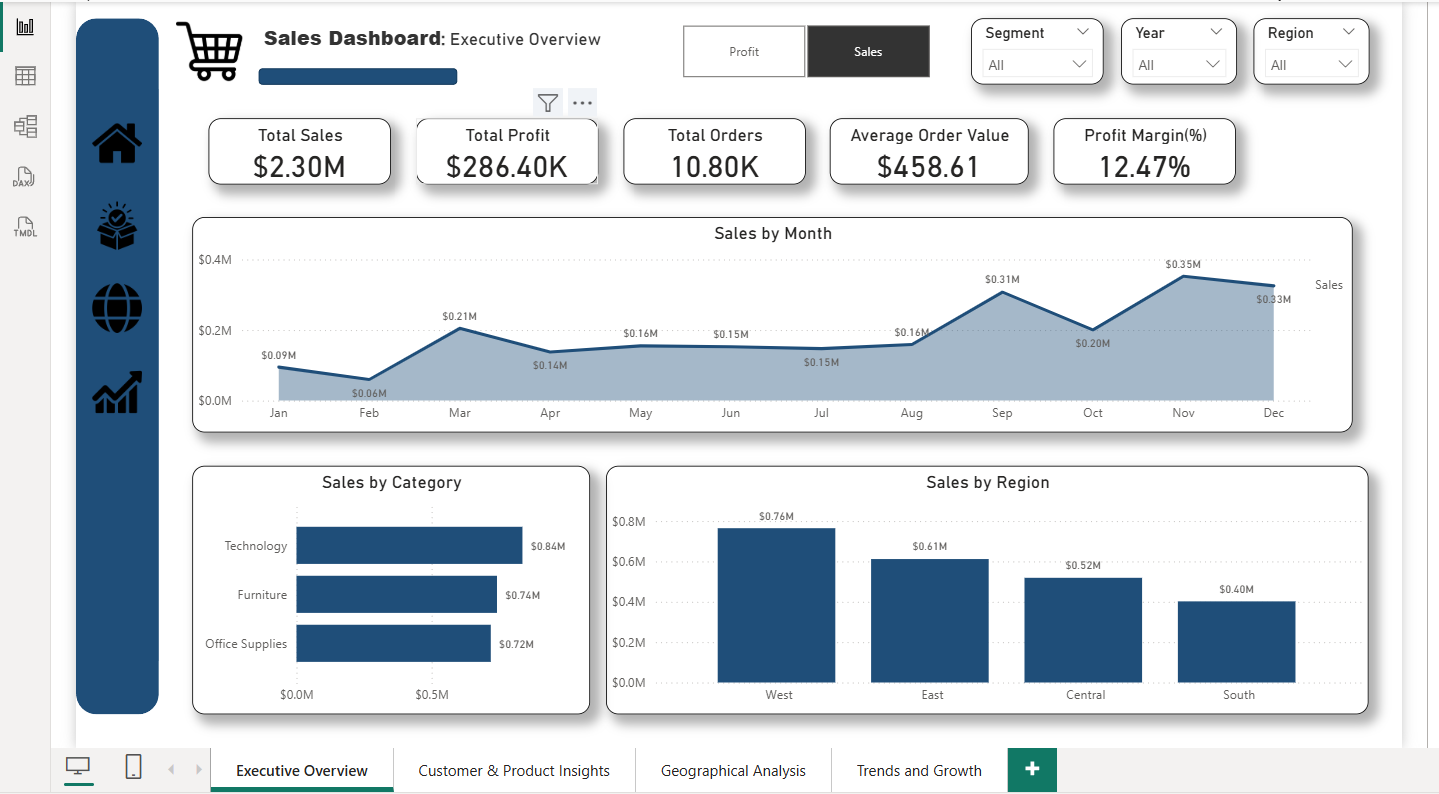

This screenshot's page, from the dashboard's own definition file:
{"tool":"powerbi","page":{"name":"Executive Overview","canvas":[1280,720],"ordinal":0},"visuals":[{"type":"card","title":"Total Sales","fields":{"Values":["Sum(fact_superstore.Sales)"]},"box":[128,112,176,64],"z":0},{"type":"card","title":"Total Profit","fields":{"Values":["Sum(fact_superstore.Profit)"]},"box":[328,112,176,64],"z":1000},{"type":"barChart","fields":{"Y":["fact_superstore.Total Sales"],"Category":["dim_Products.Category"]},"box":[112,448,384,240],"z":2000},{"type":"lineChart","fields":{"Y":["fact_superstore.Total Sales"],"Category":["dim_Date.Month Name"]},"box":[112,208,1120,208],"z":3000},{"type":"slicer","fields":{"Values":["dim_Date.Year"]},"box":[1008,16,112,64],"z":4000},{"type":"slicer","fields":{"Values":["dim_Customers.Region"]},"box":[1136,16,112,64],"z":5000},{"type":"card","title":"Profit Margin(%)","fields":{"Values":["dim_Customers.Sum of Profit divided by Sum of Sales"]},"box":[944,112,176,64],"z":6000},{"type":"card","title":"Total Orders","fields":{"Values":["CountNonNull(fact_superstore.Order ID)"]},"box":[528,112,176,64],"z":7000},{"type":"card","title":"Average Order Value","fields":{"Values":["Metric_Selector.Sum of Sales average per Order ID"]},"box":[728,112,192,64],"z":8000},{"type":"slicer","fields":{"Values":["dim_Customers.Segment"]},"box":[864,16,128,64],"z":9000},{"type":"image","box":[96,16,64,64],"z":10000},{"type":"textbox","box":[176,16,368,48],"z":11000},{"type":"shape","box":[176,64,192,16],"z":12000},{"type":"shape","box":[0,16,80,672],"z":13000},{"type":"image","box":[16,112,48,48],"z":14000},{"type":"columnChart","fields":{"Y":["fact_superstore.Total Sales"],"Category":["dim_Customers.Region"]},"box":[512,448,736,240],"z":15000},{"type":"slicer","fields":{"Values":["Metric Selector.Metric Selector"]},"box":[560,16,288,64],"z":16000},{"type":"image","box":[16,192,48,48],"z":17000},{"type":"image","box":[16,352,48,48],"z":18000},{"type":"image","box":[16,272,48,48],"z":19000}]}

Visuals, with their boxes in screenshot pixels (x1, y1, x2, y2):
"Total Sales" card: box=[206, 114, 390, 181]
"Total Profit" card: box=[415, 114, 600, 181]
barChart - fact_superstore.Total Sales x dim_Products.Category: box=[189, 466, 592, 718]
lineChart - fact_superstore.Total Sales x dim_Date.Month Name: box=[189, 215, 1364, 433]
slicer - dim_Date.Year: box=[1129, 13, 1247, 80]
slicer - dim_Customers.Region: box=[1264, 13, 1381, 80]
"Profit Margin(%)" card: box=[1062, 114, 1247, 181]
"Total Orders" card: box=[625, 114, 810, 181]
"Average Order Value" card: box=[835, 114, 1037, 181]
slicer - dim_Customers.Segment: box=[978, 13, 1112, 80]
image: box=[172, 13, 239, 80]
textbox: box=[256, 13, 642, 63]
shape: box=[256, 63, 457, 80]
shape: box=[71, 13, 155, 718]
image: box=[88, 114, 138, 164]
columnChart - fact_superstore.Total Sales x dim_Customers.Region: box=[609, 466, 1381, 718]
slicer - Metric Selector.Metric Selector: box=[659, 13, 961, 80]
image: box=[88, 198, 138, 248]
image: box=[88, 366, 138, 416]
image: box=[88, 282, 138, 332]
